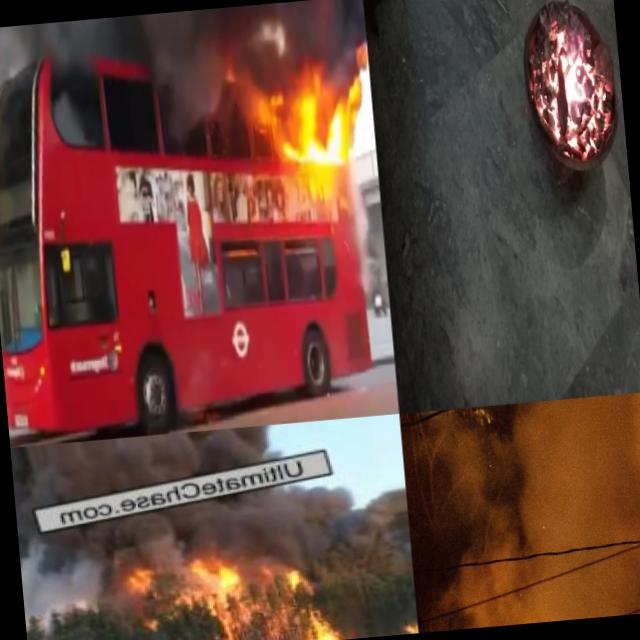fire: (532, 0, 615, 163), (264, 68, 370, 166), (217, 593, 256, 640), (188, 560, 236, 596), (302, 606, 346, 640), (280, 564, 318, 595), (130, 566, 156, 594)
smoke: (0, 4, 268, 148), (428, 400, 578, 630), (560, 391, 640, 618), (228, 484, 378, 568), (110, 507, 234, 567), (19, 544, 119, 616)
